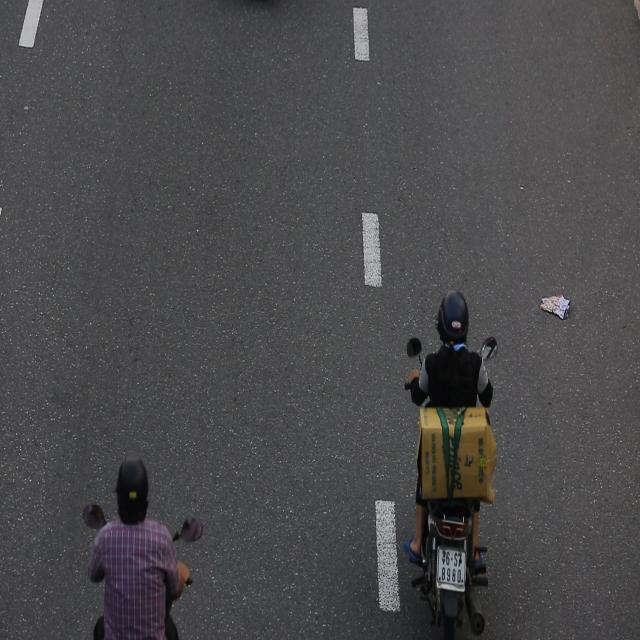motorbike: (398, 266, 503, 640)
